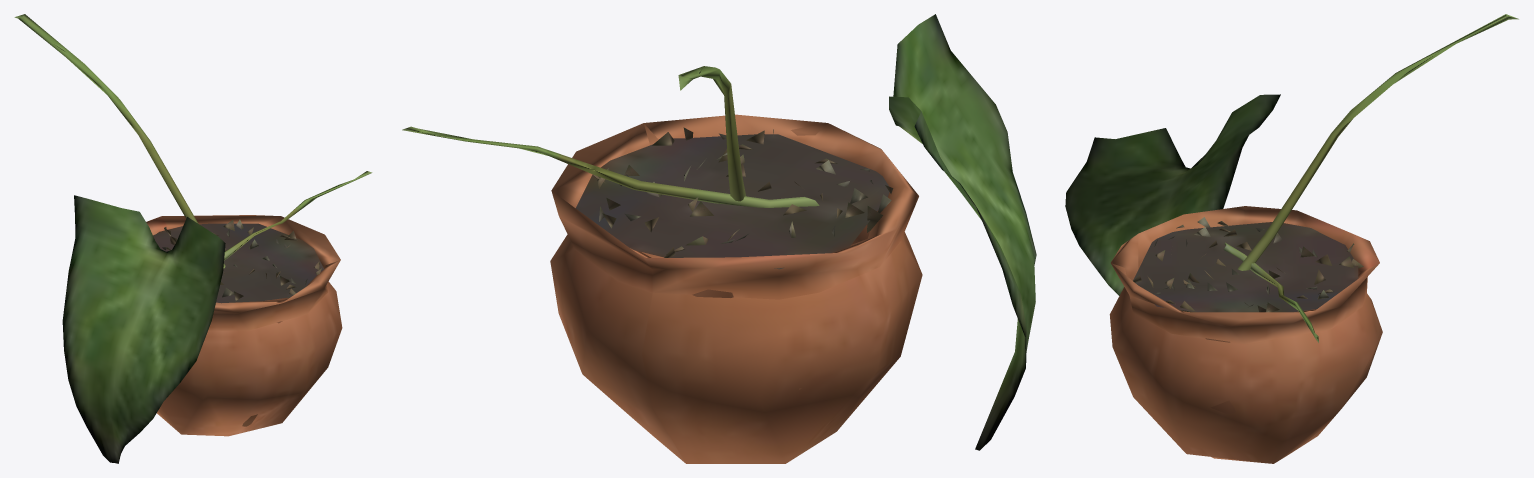
File: jardiniere_plante_b_lod2.glb
3 views of the same model, side by side, from view 1: azimuth 30°, elevation 25°; view 2: azimuth 150°, elevation 25°; view 3: azimuth 270°, elevation 25° (orthographic). The views are drawn at different scales.
Parts seen in each view (by area): view 1: potted_plant_02_leaves, potted_plant_02_pot; view 2: potted_plant_02_pot, potted_plant_02_leaves; view 3: potted_plant_02_pot, potted_plant_02_leaves.
Part boxes in pixels (x1,y1,x2,y2): potted_plant_02_leaves: [14, 14, 372, 463]; potted_plant_02_pot: [146, 215, 342, 436]; potted_plant_02_pot: [550, 114, 922, 463]; potted_plant_02_leaves: [402, 14, 1036, 450]; potted_plant_02_pot: [1109, 206, 1382, 463]; potted_plant_02_leaves: [1065, 14, 1518, 342].
Bounding box in the file's own units: 0.795 × 0.7147 × 0.7829.
Materials: 2 (2 with a texture image).
